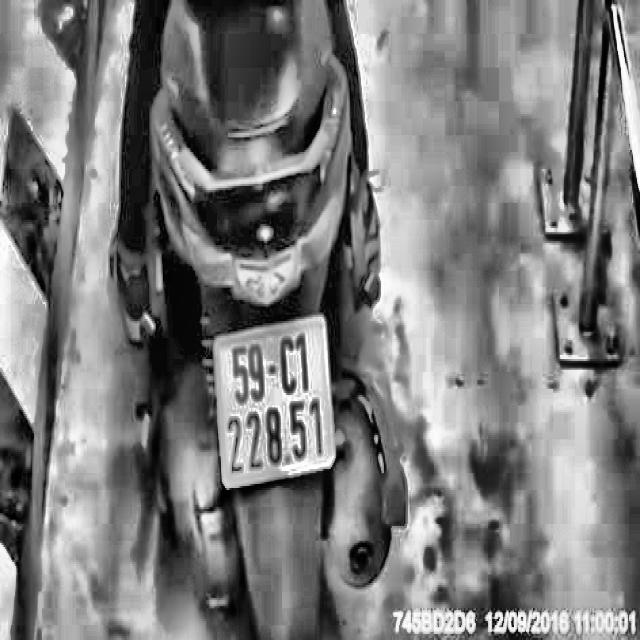plate: (210, 312, 342, 495)
